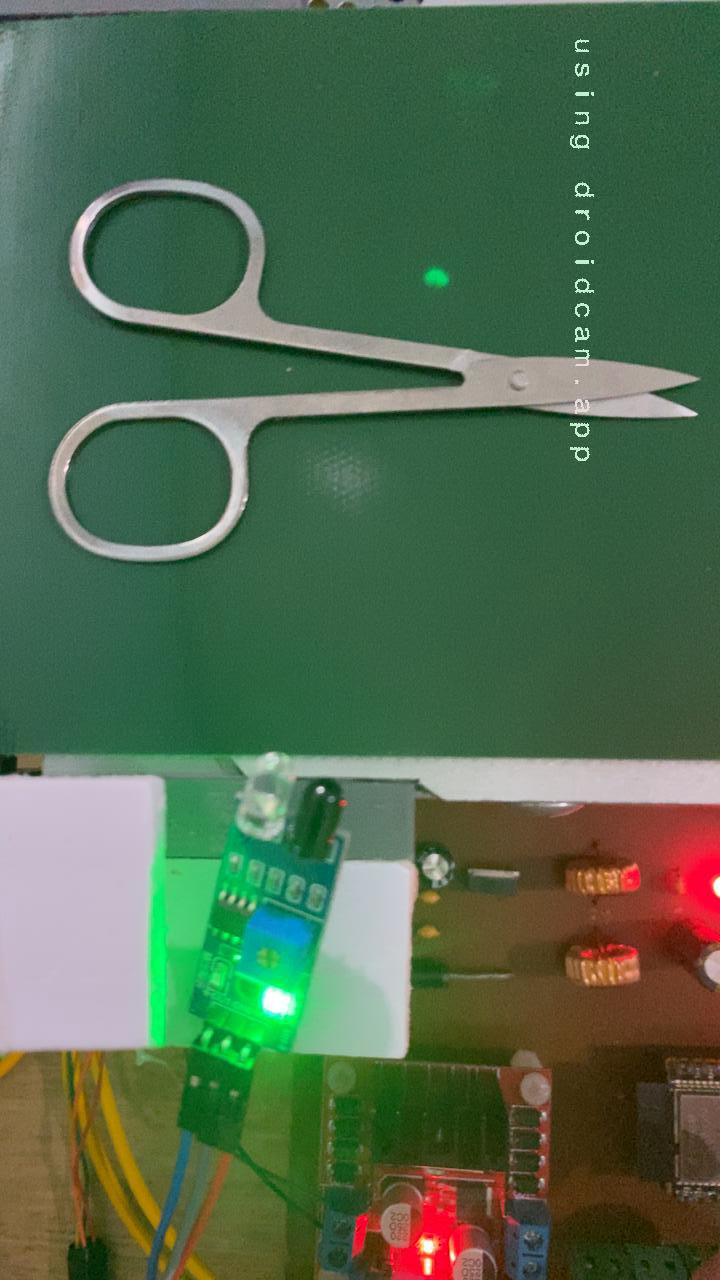scissor: (41, 172, 705, 569)
